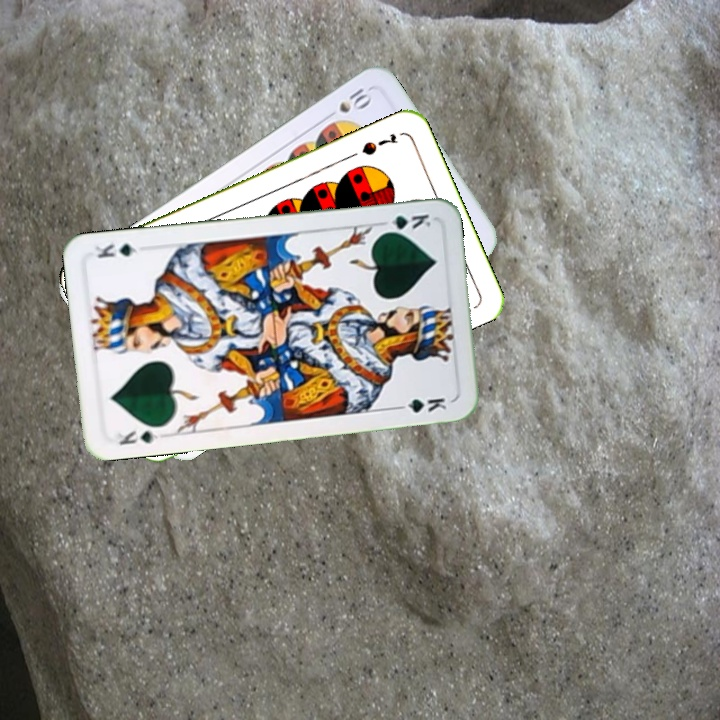GK: (376, 210, 433, 236), (108, 426, 166, 448)
S10: (334, 84, 375, 116)
S7: (357, 129, 401, 158)
